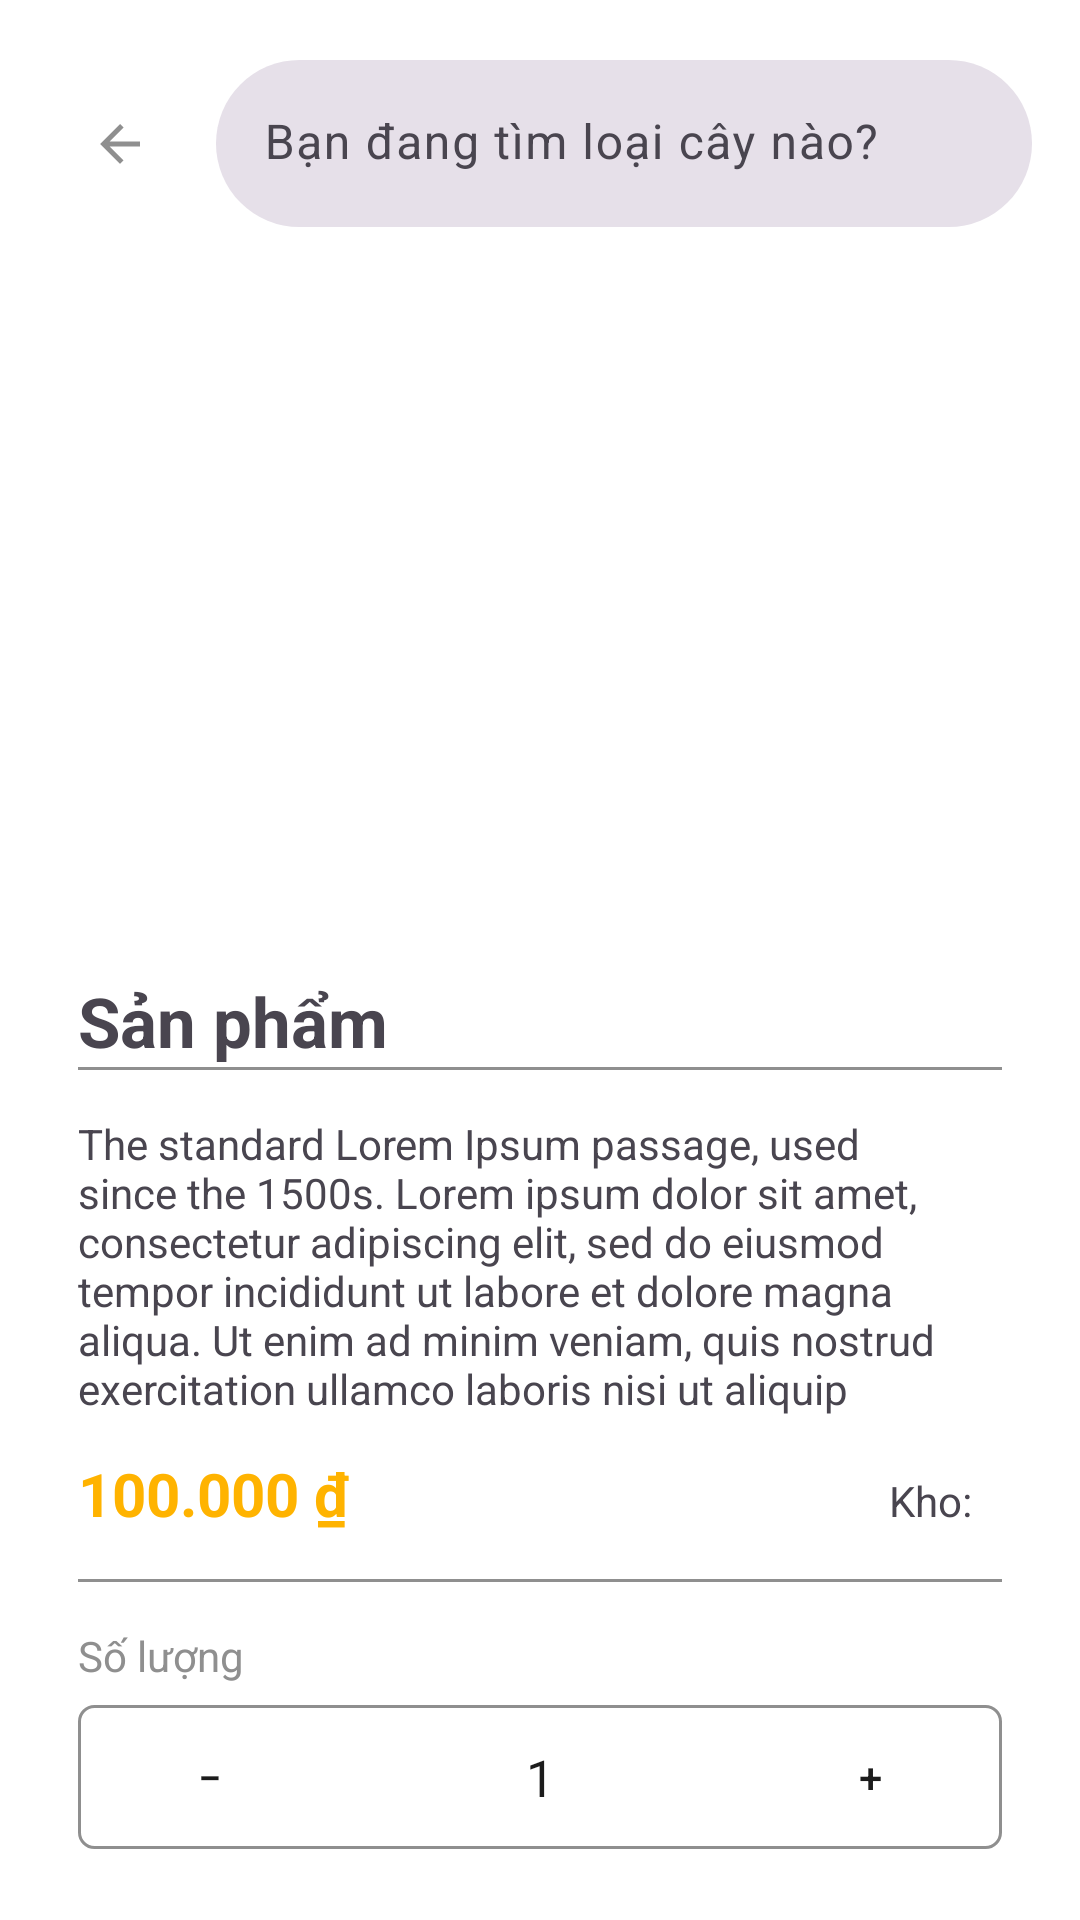

Screen size 1080px x 1920px. Icon name, then its box in pixels as region(x1, y1, x2, y2):
back arrow: region(100, 124, 140, 164)
